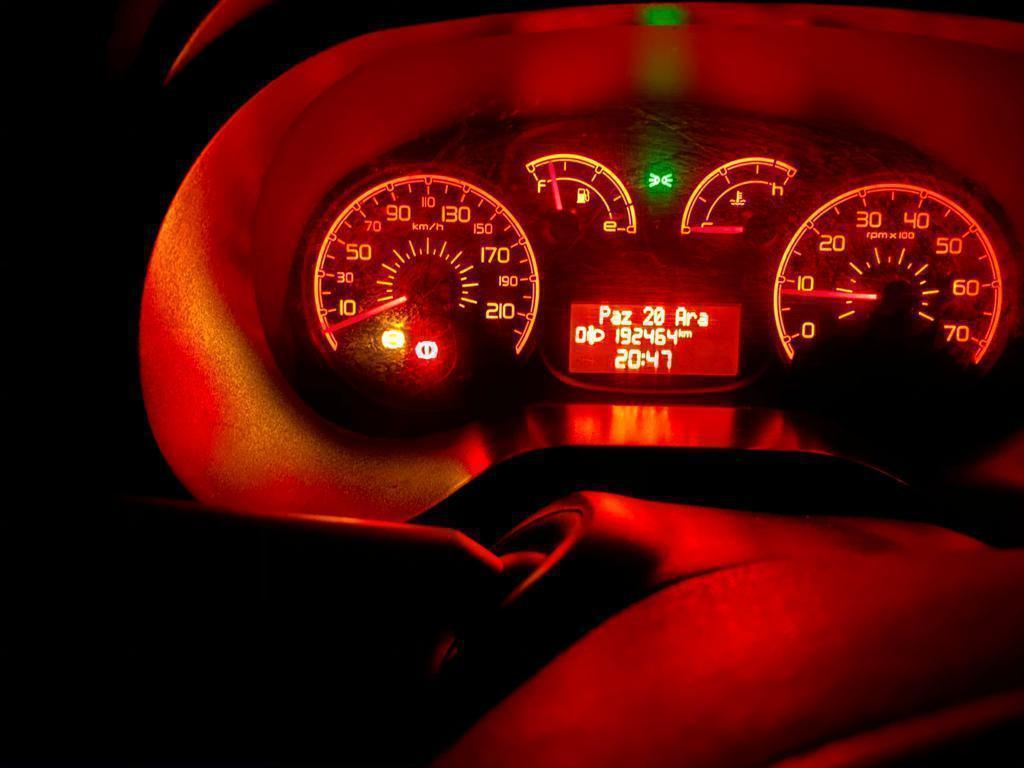0: (627, 348, 640, 369), (653, 306, 666, 325), (575, 325, 586, 343)
1: (615, 326, 620, 345)
2: (614, 348, 627, 369), (642, 306, 653, 327), (631, 326, 642, 344)
4: (646, 349, 659, 370), (666, 328, 678, 345), (642, 328, 654, 344)
6: (654, 326, 665, 346)
7: (661, 349, 674, 370)
9: (620, 326, 631, 345)
X: (675, 306, 686, 327), (598, 305, 609, 325), (697, 310, 708, 328), (621, 309, 632, 325), (610, 309, 621, 325), (686, 310, 697, 326), (640, 351, 645, 368), (685, 329, 693, 338), (678, 328, 684, 338)
odometer: (565, 301, 743, 377)
